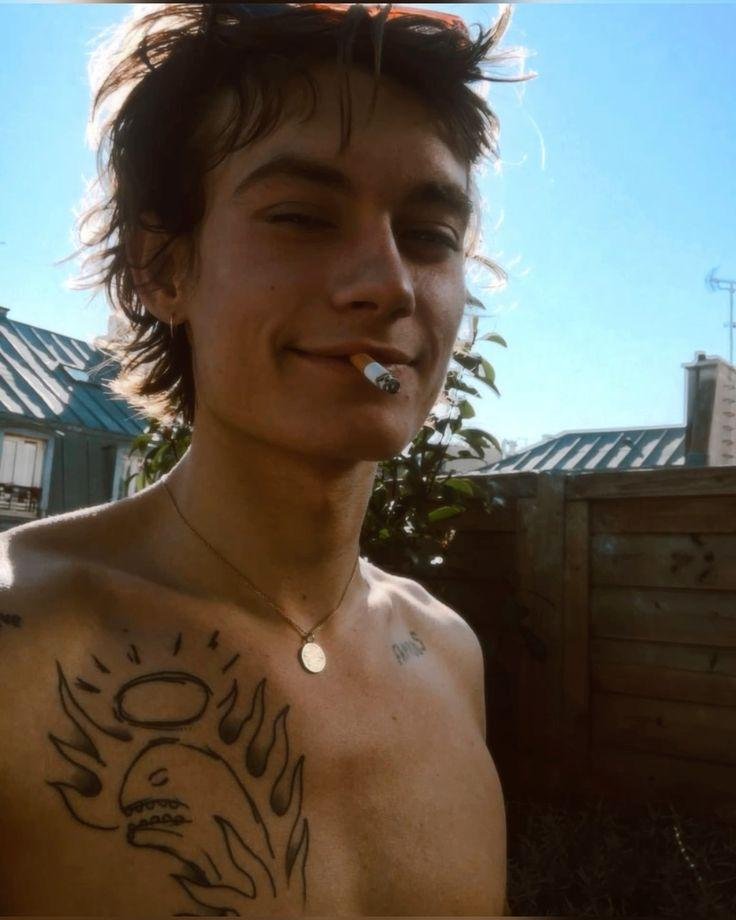cigarette: (350, 354, 401, 394)
